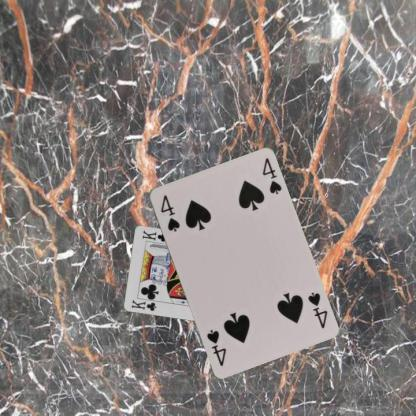4s: (304, 289, 329, 330), (157, 192, 181, 233)
Kc: (129, 297, 158, 312)
